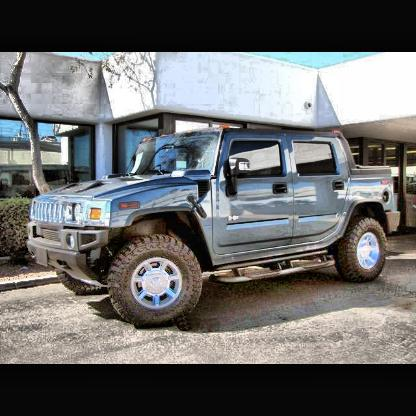HUMMER H2 SUT Crew Cab 2009: (29, 126, 402, 330)
